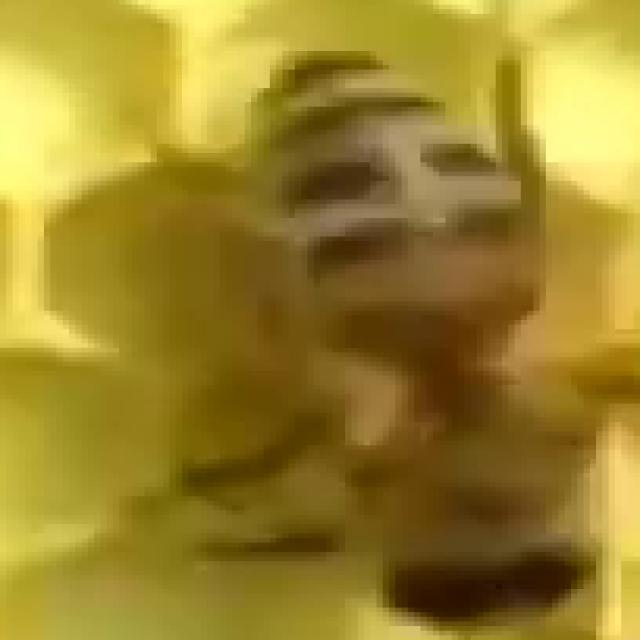honeybee: (143, 35, 615, 598)
